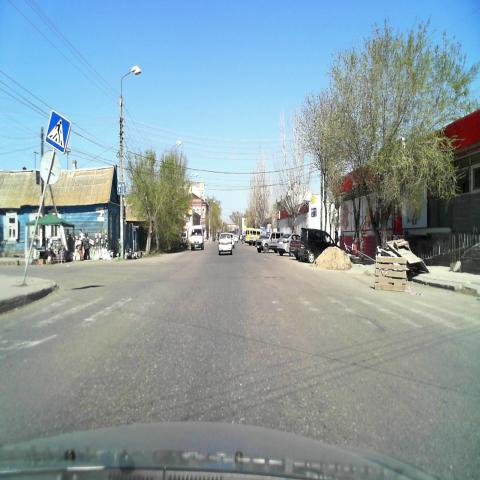5_11: (116, 182, 126, 196)
